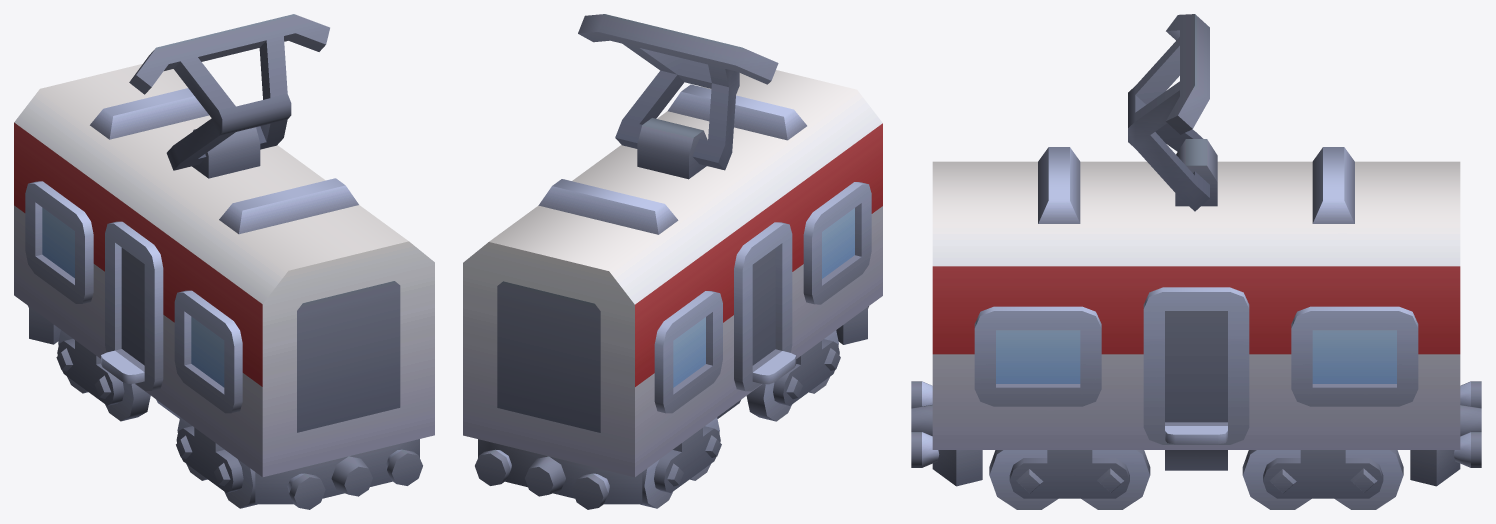
File: k-train-train-electric-city-b.glb
3 renders of one model, left to right at view 1: azimuth 30°, elevation 25°; view 2: azimuth 150°, elevation 25°; view 3: azimuth 270°, elevation 25°, orthographic. The views are drawn at different scales.
Parts seen in each view (by area): view 1: train-electric-city-b, collector, wheels-back, wheels-front; view 2: train-electric-city-b, collector, wheels-front, wheels-back; view 3: train-electric-city-b, collector, wheels-back, wheels-front.
Part boxes in pixels (box(x1,y1,x2,y2)): train-electric-city-b: box(14, 64, 434, 509); collector: box(129, 14, 329, 170); wheels-back: box(56, 330, 150, 421); wheels-front: box(176, 417, 257, 508); train-electric-city-b: box(463, 70, 882, 509); collector: box(578, 14, 778, 170); wheels-front: box(746, 330, 840, 421); wheels-back: box(640, 417, 721, 508); train-electric-city-b: box(911, 139, 1481, 486); collector: box(1128, 14, 1209, 211); wheels-back: box(1242, 450, 1403, 509); wheels-front: box(989, 450, 1150, 509).
Bounding box in the file's own units: 1.3 × 2.22 × 2.7.
1 material, 1 textured.
